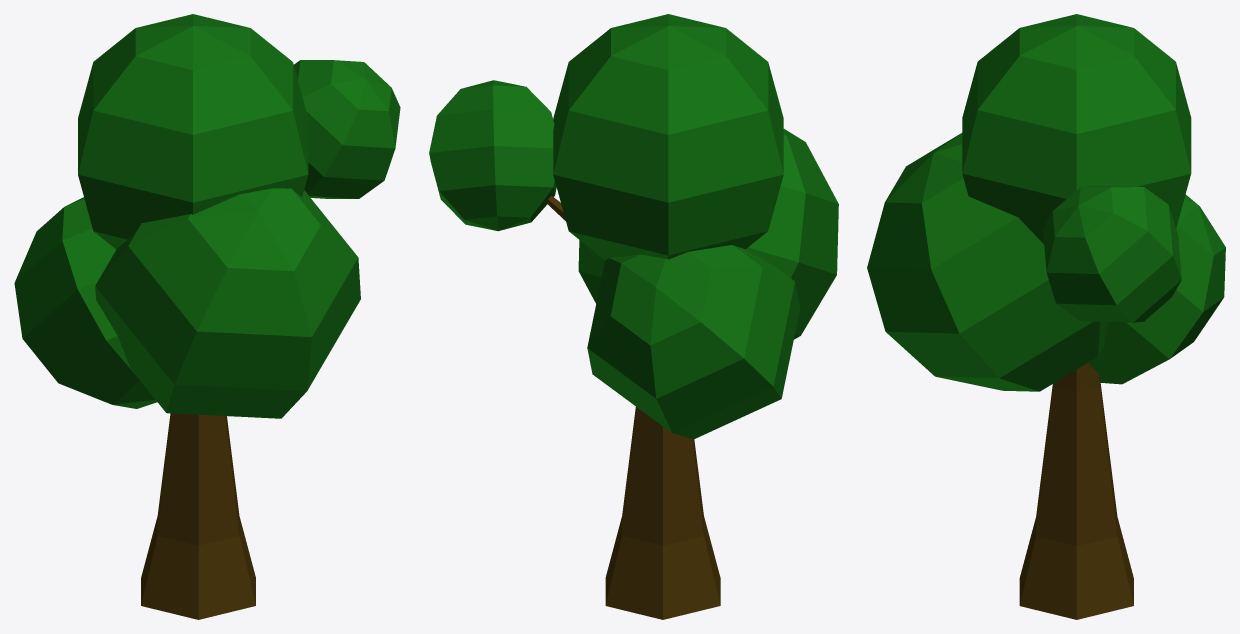
The model's file is Tree_7.fbx.
The picture shows the model from 3 angles, left to right: view 1: azimuth 30°, elevation 25°; view 2: azimuth 150°, elevation 25°; view 3: azimuth 270°, elevation 25°; orthographic projection.
Visible parts, largest first — view 1: Tree_7; view 2: Tree_7; view 3: Tree_7.
Boxes of the visible parts, x1=… form: Tree_7: x1=14, y1=14, x2=400, y2=619; Tree_7: x1=429, y1=14, x2=838, y2=619; Tree_7: x1=867, y1=14, x2=1225, y2=619.
Size of the model in its own units: 6.2 by 9.43 by 5.44.
